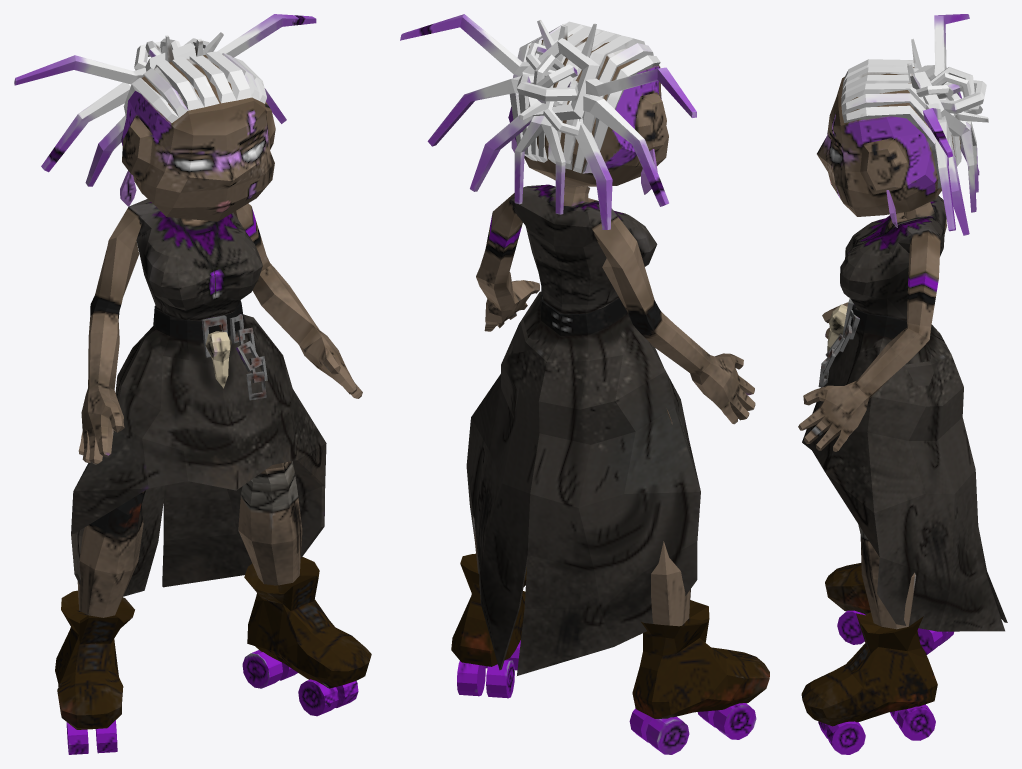
File: bruja_000002.obj
The picture shows the model from 3 angles, left to right: view 1: azimuth 30°, elevation 25°; view 2: azimuth 150°, elevation 25°; view 3: azimuth 270°, elevation 25°; orthographic projection. The views are drawn at different scales.
Visible parts, largest first — view 1: Bruja_Plane.001; view 2: Bruja_Plane.001; view 3: Bruja_Plane.001.
Part boxes in pixels (bbox=[...]): Bruja_Plane.001: bbox=[14, 14, 371, 754]; Bruja_Plane.001: bbox=[400, 14, 769, 754]; Bruja_Plane.001: bbox=[798, 14, 1007, 754].
Bounding box in the file's own units: 7.76 × 16.49 × 4.83.
